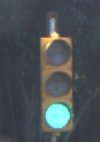Green: (36, 32, 79, 136)
